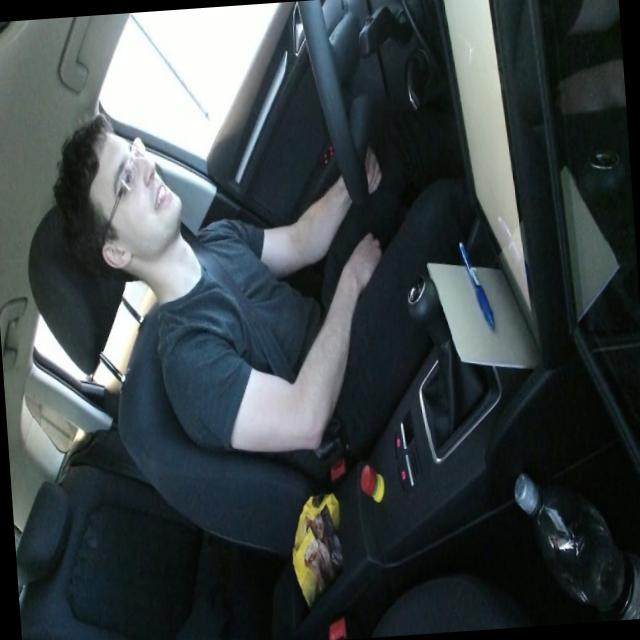pen: (456, 236, 496, 332)
